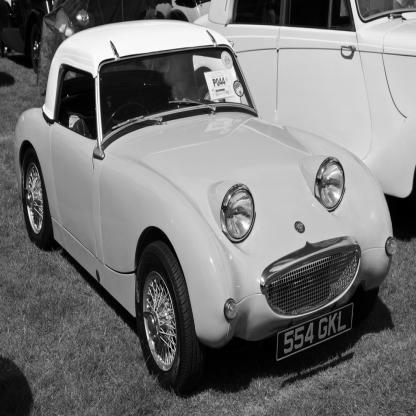car: (1, 13, 400, 394)
